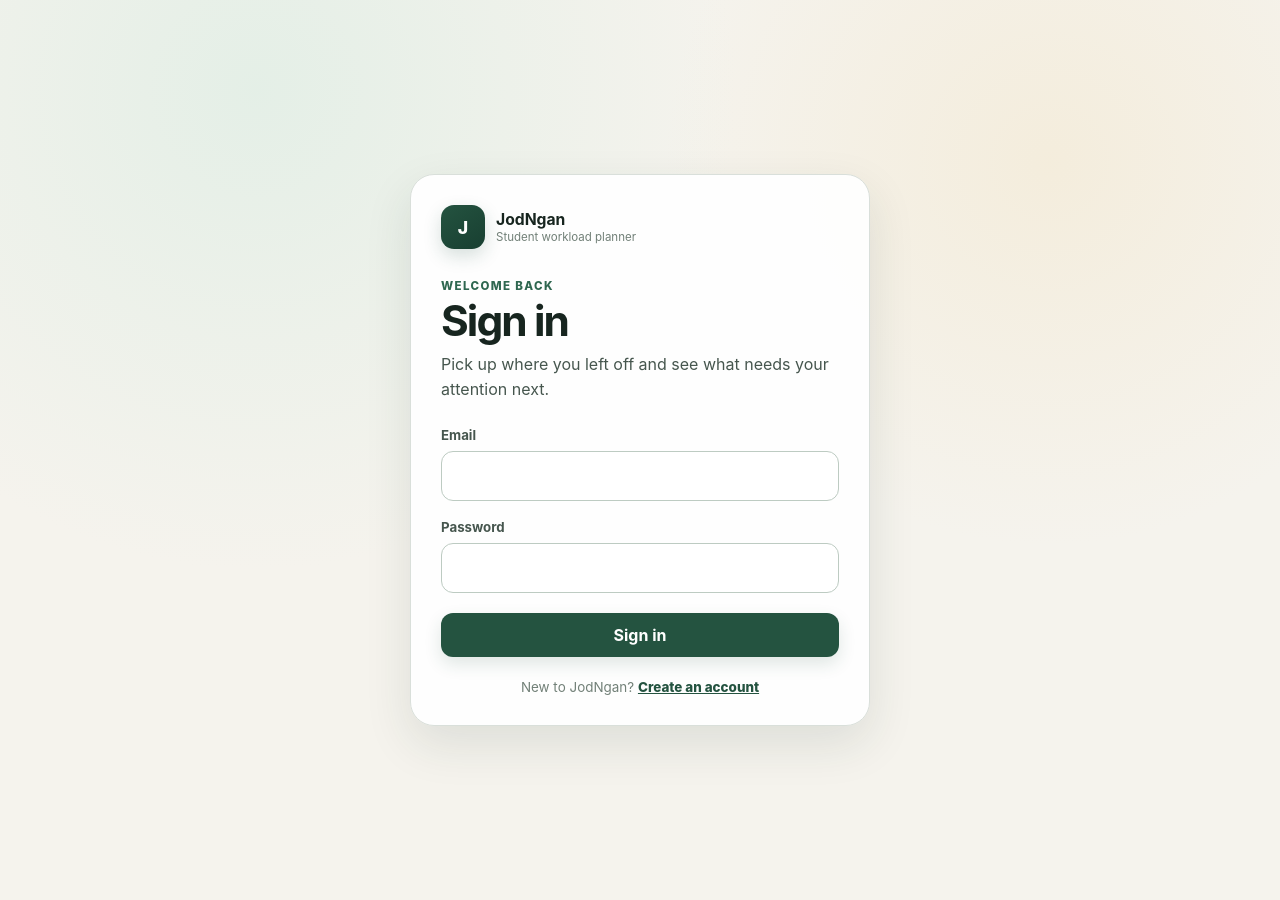
Test: authentication flow › shows the generic invalid-credentials error without leaving sign in
Expected: the heading "Sign in" is shown, top-left (441, 295), bottom-right (568, 346)
Type "student@example.com" into the field labelled "Email" at point(640, 476), box top-left (441, 451), bottom-right (839, 501)
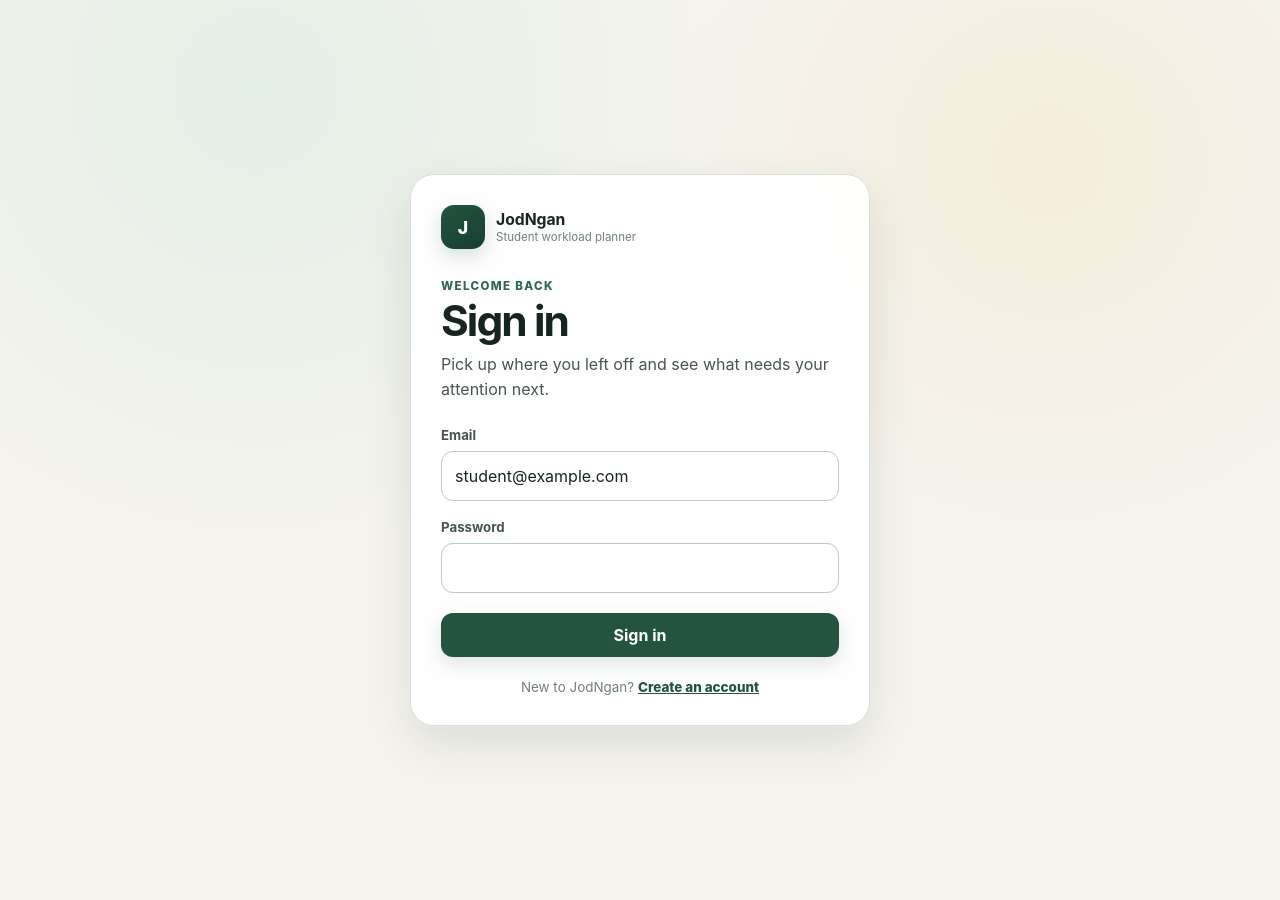
Type "wrong-password" into the password field labelled "Password" at point(640, 568), box top-left (441, 543), bottom-right (839, 593)
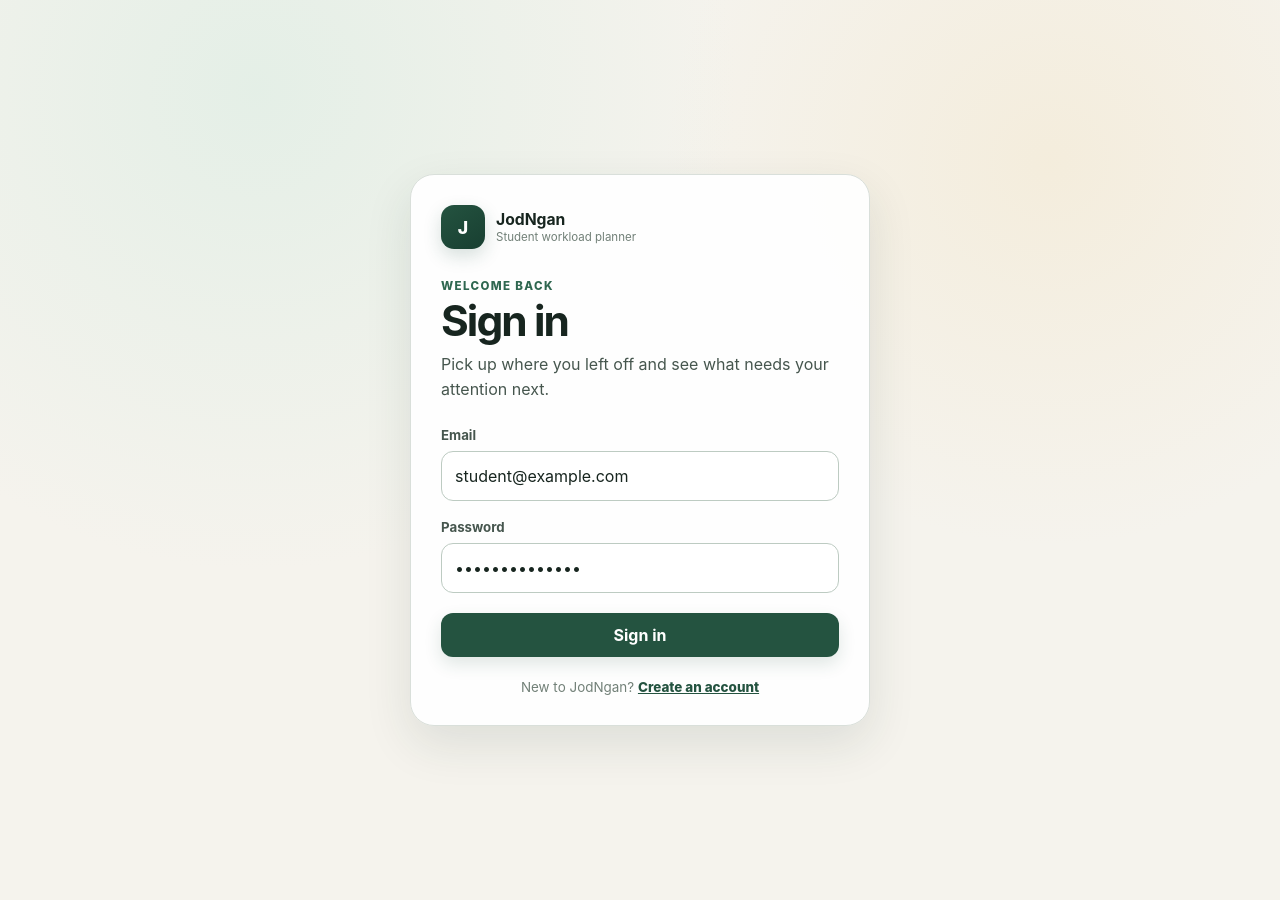
Click the button "Sign in" at point(640, 635), box top-left (441, 613), bottom-right (839, 657)
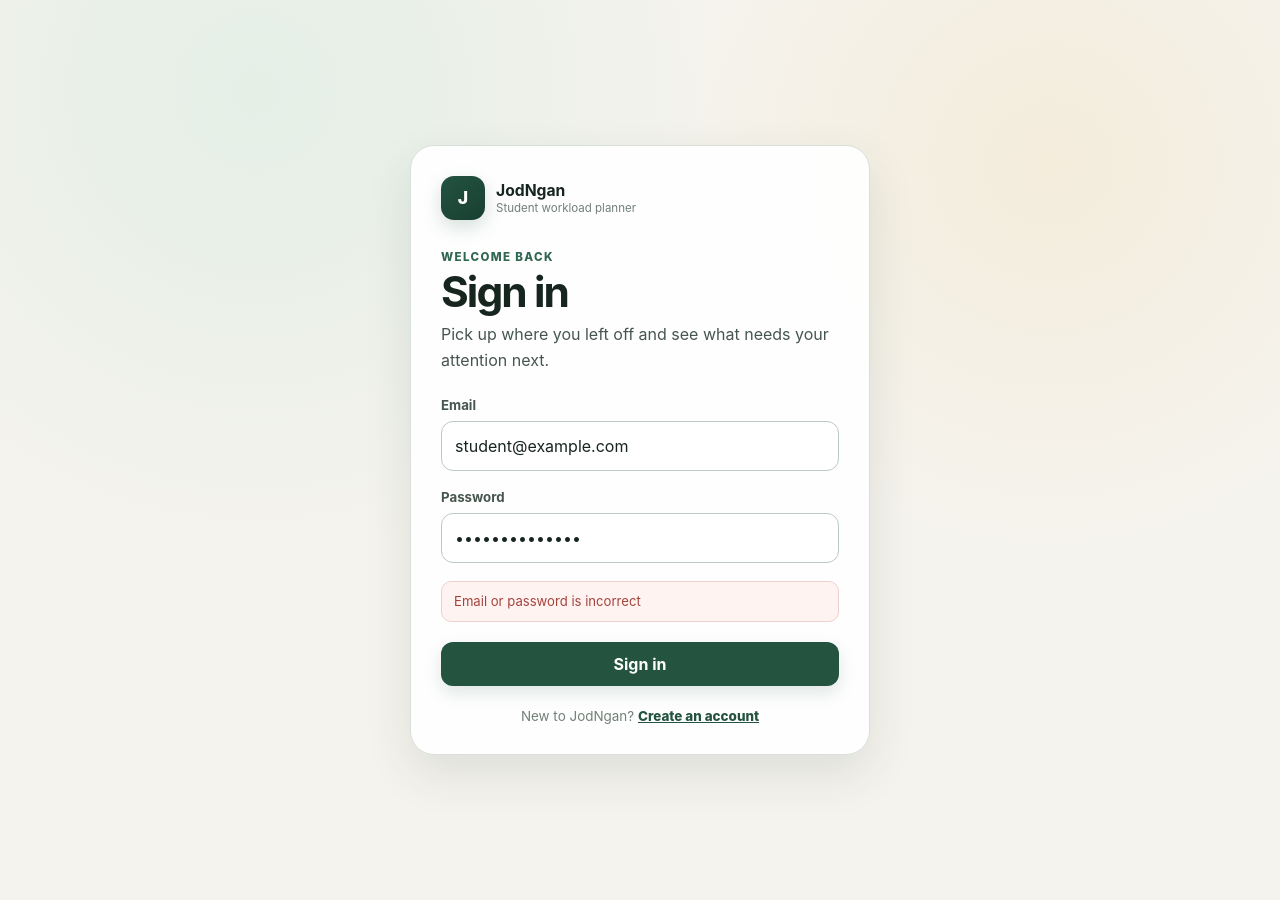
Expected: the text "Email or password is incorrect" is shown, top-left (441, 581), bottom-right (839, 622)
